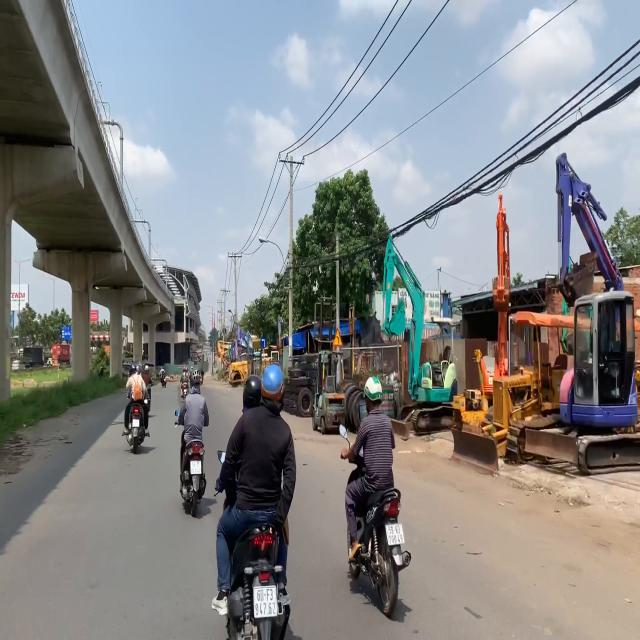Nguy hiem: (332, 327, 344, 347)
Re trai: (260, 335, 267, 349)
